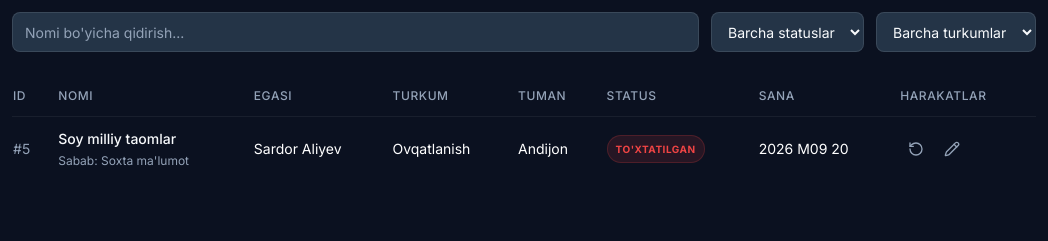
Test: AdminBusinessesView — business operations › shows a suspended business with its reason and only the restore action
The image size is (1048, 241).
Expected: the text "Soy milliy taomlar" is shown, top-left (58, 130), bottom-right (176, 147)
Expected: the text "Sabab: Soxta ma'lumot" is shown, top-left (58, 153), bottom-right (189, 168)
Click the button named "Qayta faollashtirish". click: (916, 149)
box: top-left (900, 133), bottom-right (932, 165)
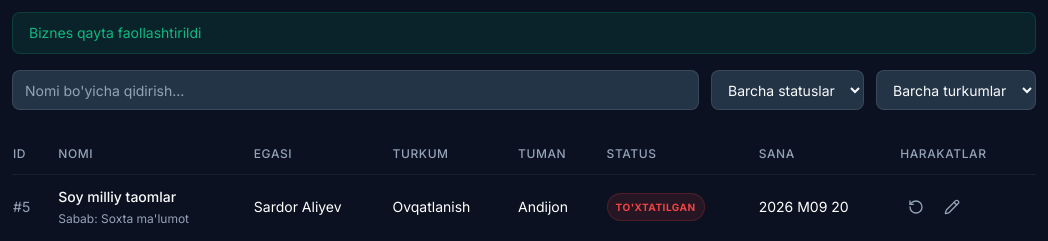
Expected: the text "Biznes qayta faollashtirildi" is shown, top-left (12, 12), bottom-right (1036, 54)
